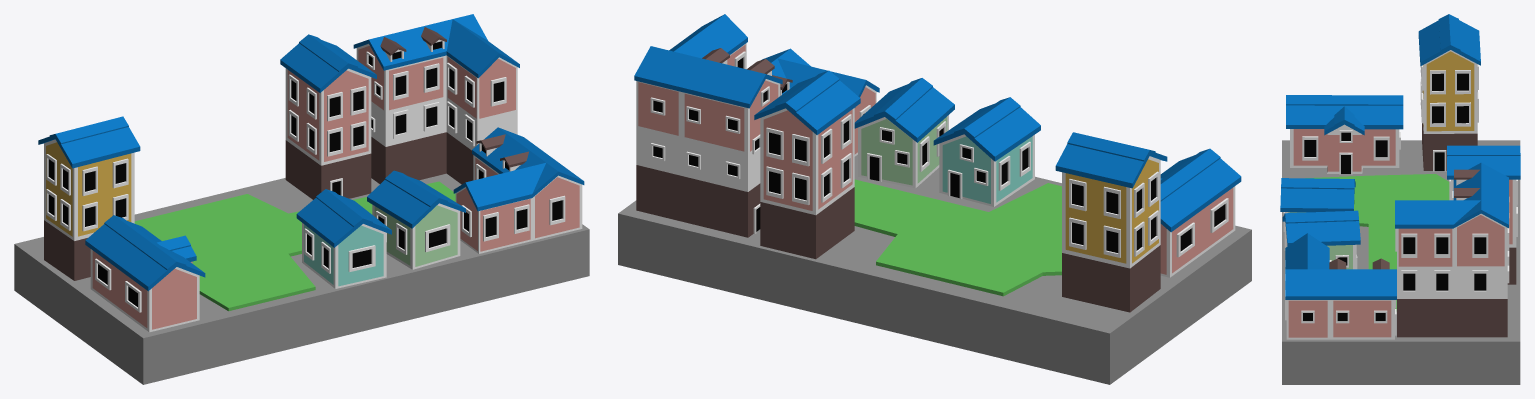
3 views of the same model, side by side, from view 1: azimuth 30°, elevation 25°; view 2: azimuth 150°, elevation 25°; view 3: azimuth 270°, elevation 25° (orthographic). The views are drawn at different scales.
Visible parts, largest first — view 1: Mesh_1x2_V2, Mesh_1x2_V2.001; view 2: Mesh_1x2_V2, Mesh_1x2_V2.001; view 3: Mesh_1x2_V2, Mesh_1x2_V2.001.
Part boxes in pixels (x1,y1,x2,y2): Mesh_1x2_V2: (38,14,584,332); Mesh_1x2_V2.001: (14,173,589,384); Mesh_1x2_V2: (634,14,1241,312); Mesh_1x2_V2.001: (618,154,1251,384); Mesh_1x2_V2: (1280,14,1520,339); Mesh_1x2_V2.001: (1282,140,1520,384).
Size of the model in its own units: 200 by 79.35 by 101.
